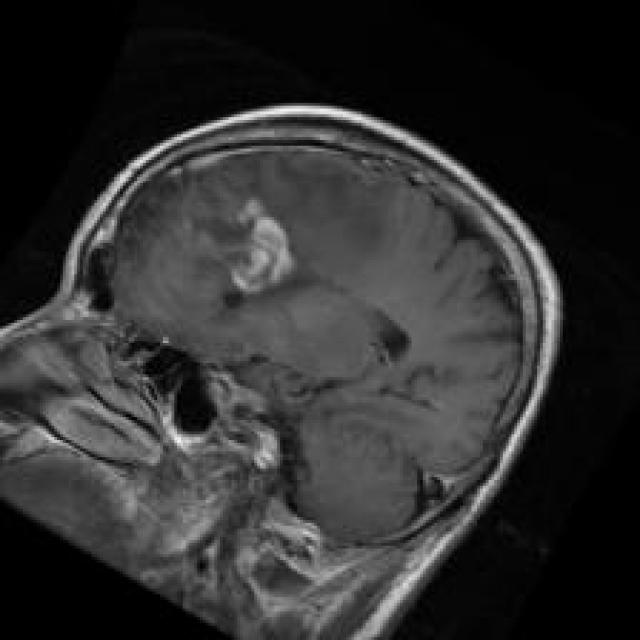glioma_tumor: (144, 190, 348, 325)
